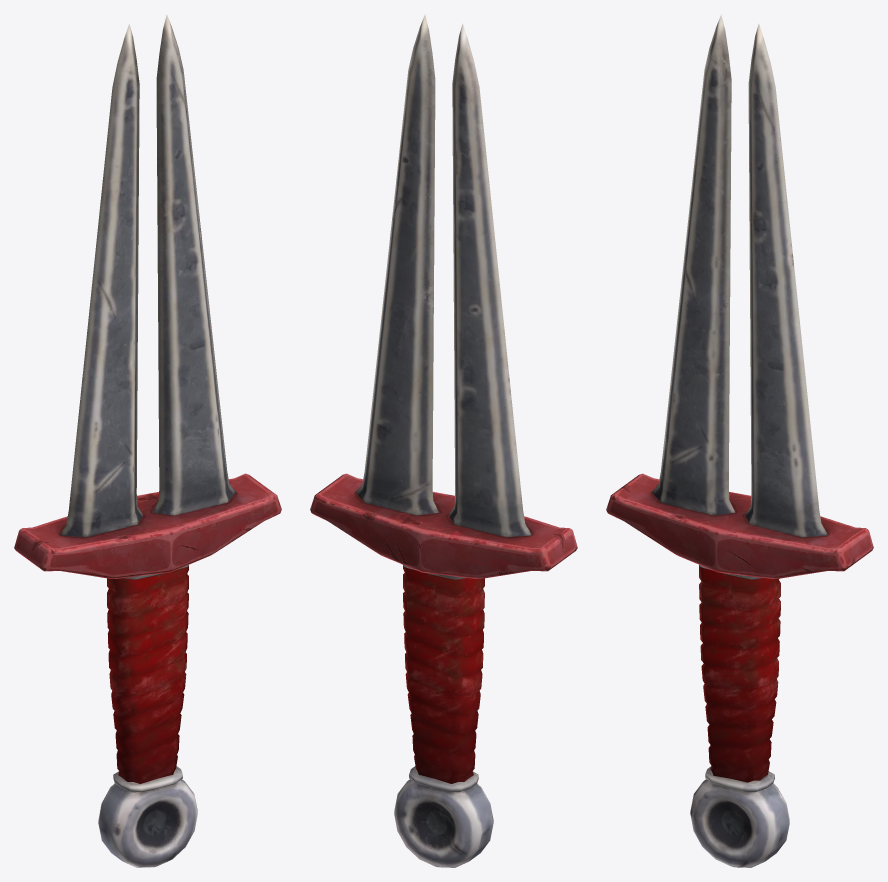
3 renders of one model, left to right at view 1: azimuth 30°, elevation 25°; view 2: azimuth 150°, elevation 25°; view 3: azimuth 330°, elevation 25°, orthographic.
Parts seen in each view (by area): view 1: SM_Dagger_Wolfsbane_1H_01_LOD0; view 2: SM_Dagger_Wolfsbane_1H_01_LOD0; view 3: SM_Dagger_Wolfsbane_1H_01_LOD0.
Boxes of the visible parts, x1,y1,x2,y2 form: SM_Dagger_Wolfsbane_1H_01_LOD0: (14,14,281,867); SM_Dagger_Wolfsbane_1H_01_LOD0: (310,14,577,867); SM_Dagger_Wolfsbane_1H_01_LOD0: (606,14,873,867).
Bounding box in the file's own units: 0.1557 × 0.5237 × 0.0532.
Materials: 1 (1 with a texture image).
